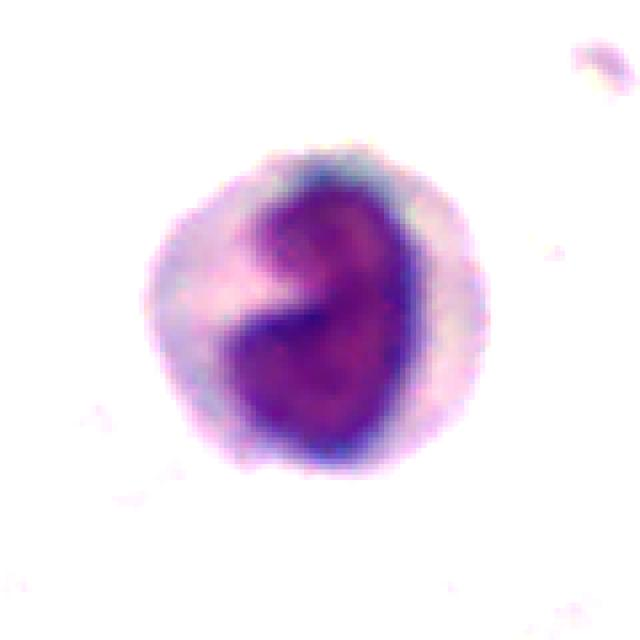WBC: (107, 112, 517, 491)
